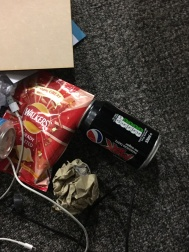can_black: (75, 90, 165, 171)
paper_brown: (42, 157, 103, 213)
